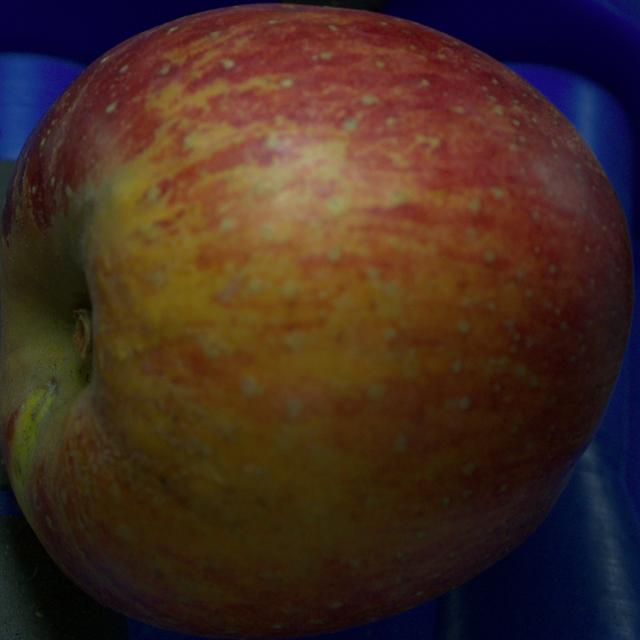apple: (0, 4, 633, 638)
